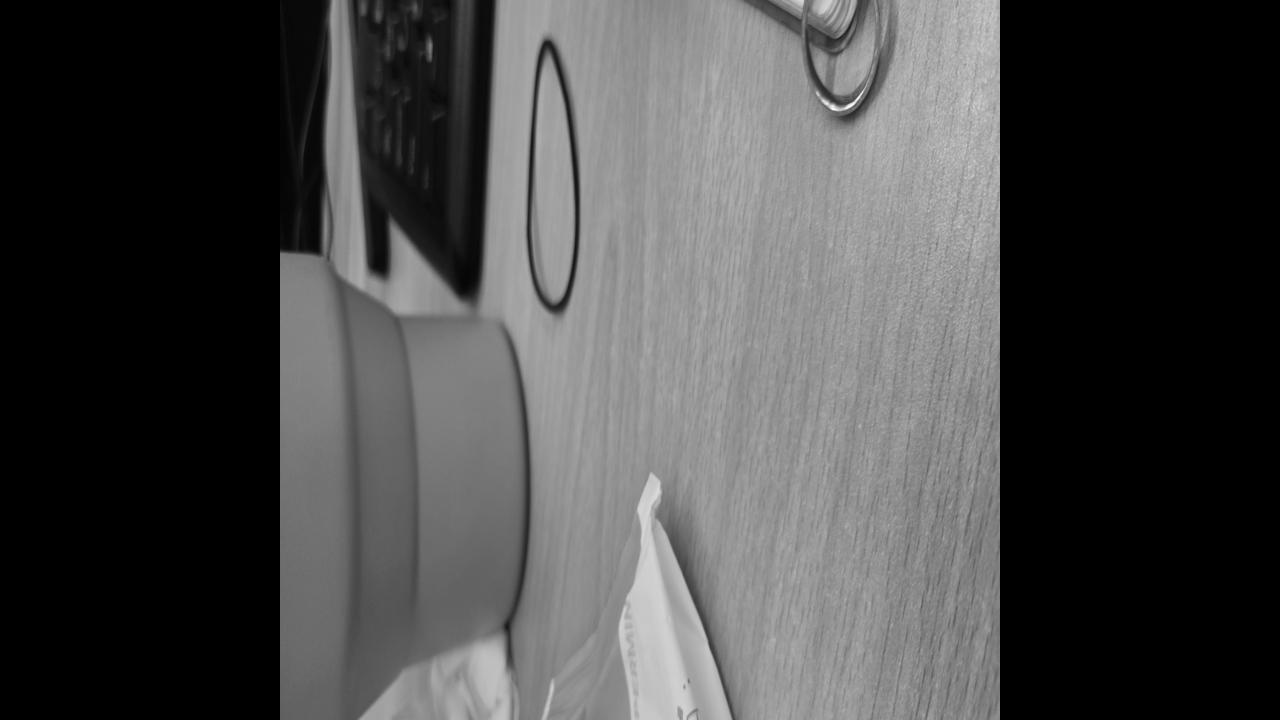ring: (800, 0, 884, 119)
